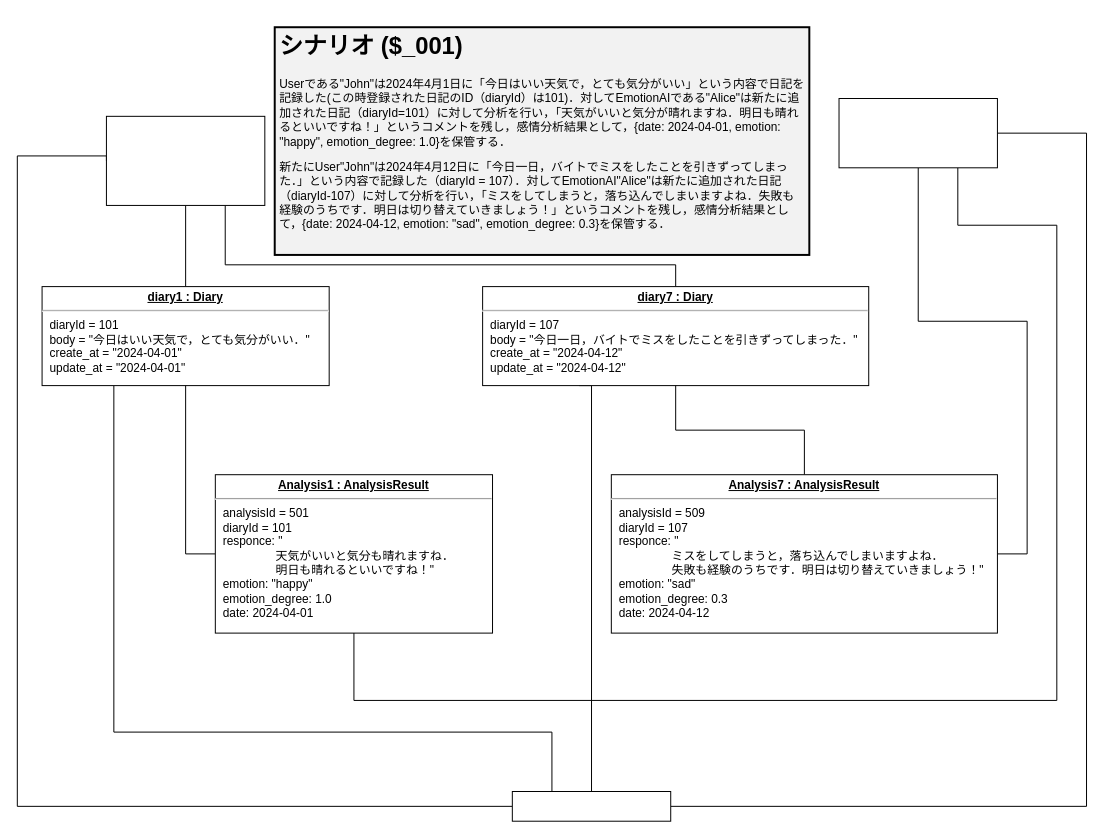
This 1105x839 diagram has some shape labels left out. Here are the shapes that lost their labels. From the top down, the box of each, then its label:
(838, 98, 997, 168): bot1 : EmotionAI botId = 1 botName = "Alice"
(105, 115, 265, 205): user1 : User userId = 1 userName = "John" password = "password"
(511, 791, 671, 821): diaries : 日記一覧
